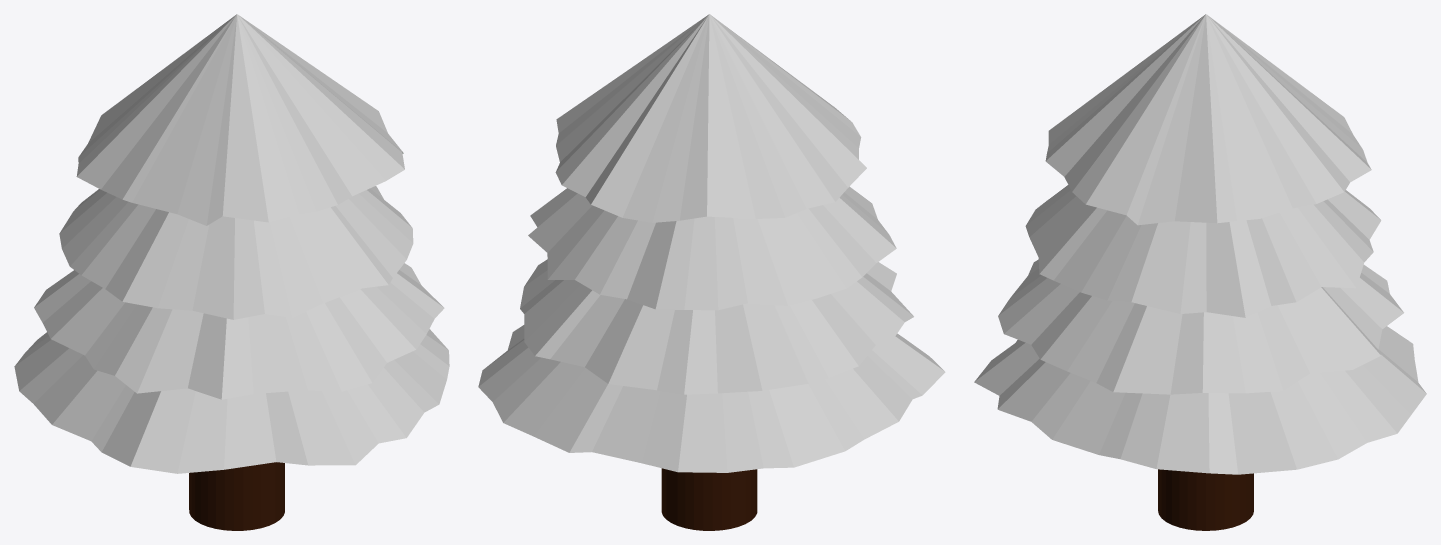
The model's file is ICGTree.obj.
The picture shows the model from 3 angles, left to right: view 1: azimuth 30°, elevation 25°; view 2: azimuth 150°, elevation 25°; view 3: azimuth 270°, elevation 25°; orthographic projection.
Parts seen in each view (by area): view 1: Cone.001; view 2: Cone.001; view 3: Cone.001.
Part boxes in pixels (x1=…): Cone.001: x1=14, y1=14, x2=449, y2=530; Cone.001: x1=478, y1=14, x2=945, y2=530; Cone.001: x1=974, y1=14, x2=1426, y2=530.
Size of the model in its own units: 3.03 by 3.76 by 3.11.
